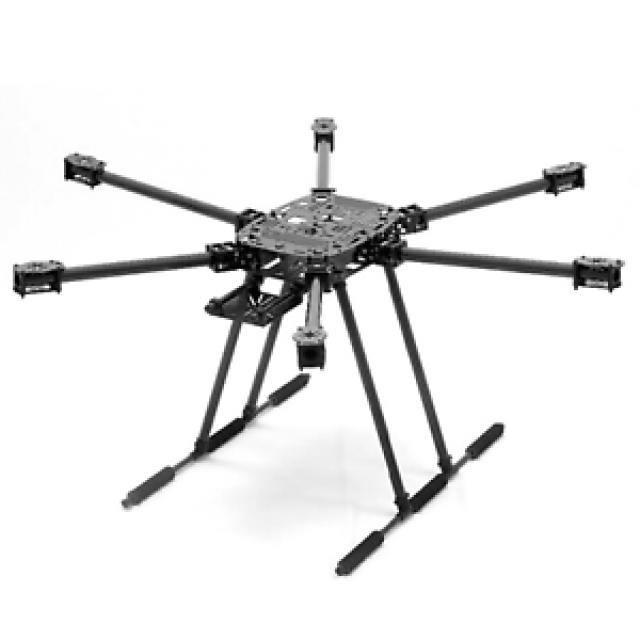drone: (3, 91, 640, 558)
